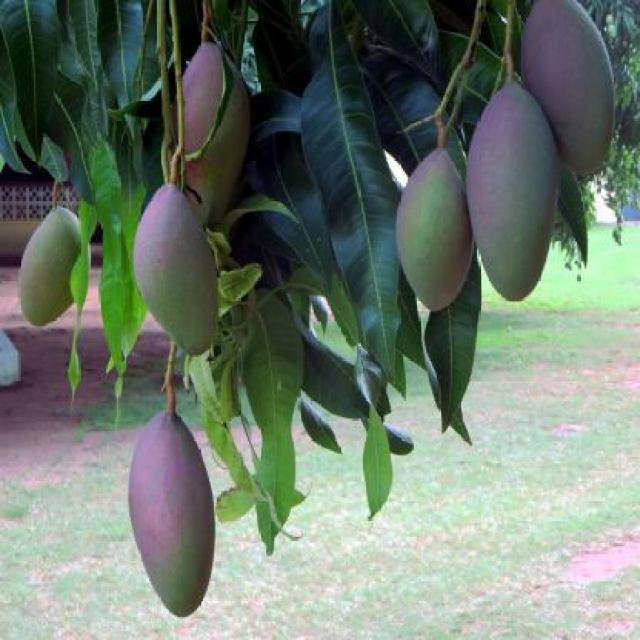Mango: (466, 80, 562, 302), (129, 413, 217, 615), (520, 0, 614, 178), (136, 185, 221, 358), (170, 42, 248, 230), (396, 146, 474, 308), (17, 206, 92, 328)
